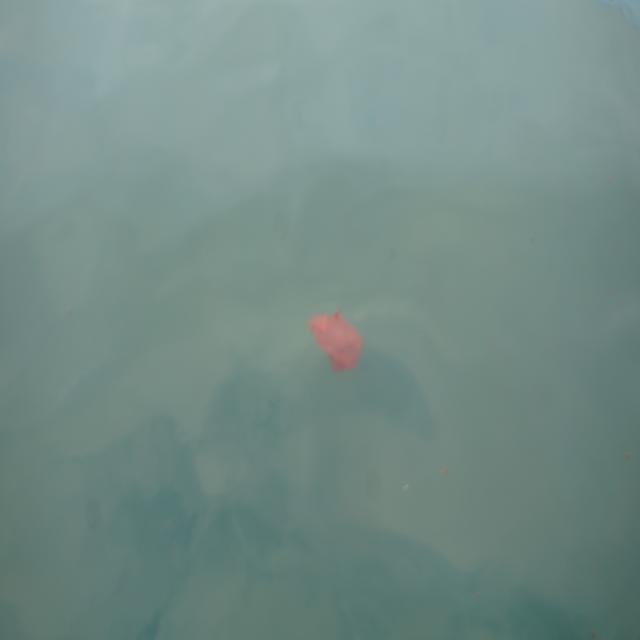Kantong Plastik: (310, 303, 364, 375)
